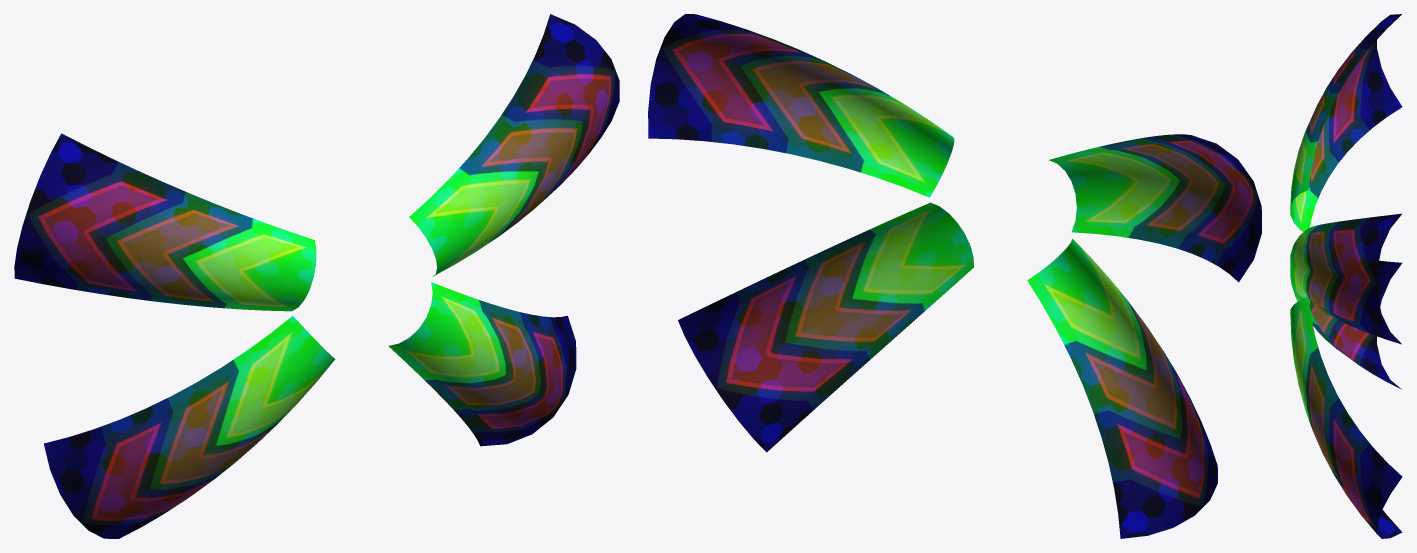
Rendered from Fx_Mesh_VivSkill_1.fbx.
3 views of the same model, side by side, from view 1: azimuth 30°, elevation 25°; view 2: azimuth 150°, elevation 25°; view 3: azimuth 270°, elevation 25° (orthographic). The views are drawn at different scales.
Parts seen in each view (by area): view 1: Fx_Mesh_VivSkill_1; view 2: Fx_Mesh_VivSkill_1; view 3: Fx_Mesh_VivSkill_1.
Boxes of the visible parts, <box> form: Fx_Mesh_VivSkill_1: <box>14,14,619,538</box>; Fx_Mesh_VivSkill_1: <box>648,14,1261,538</box>; Fx_Mesh_VivSkill_1: <box>1290,14,1402,538</box>.
Bounding box in the file's own units: 223 × 147 × 43.02.
